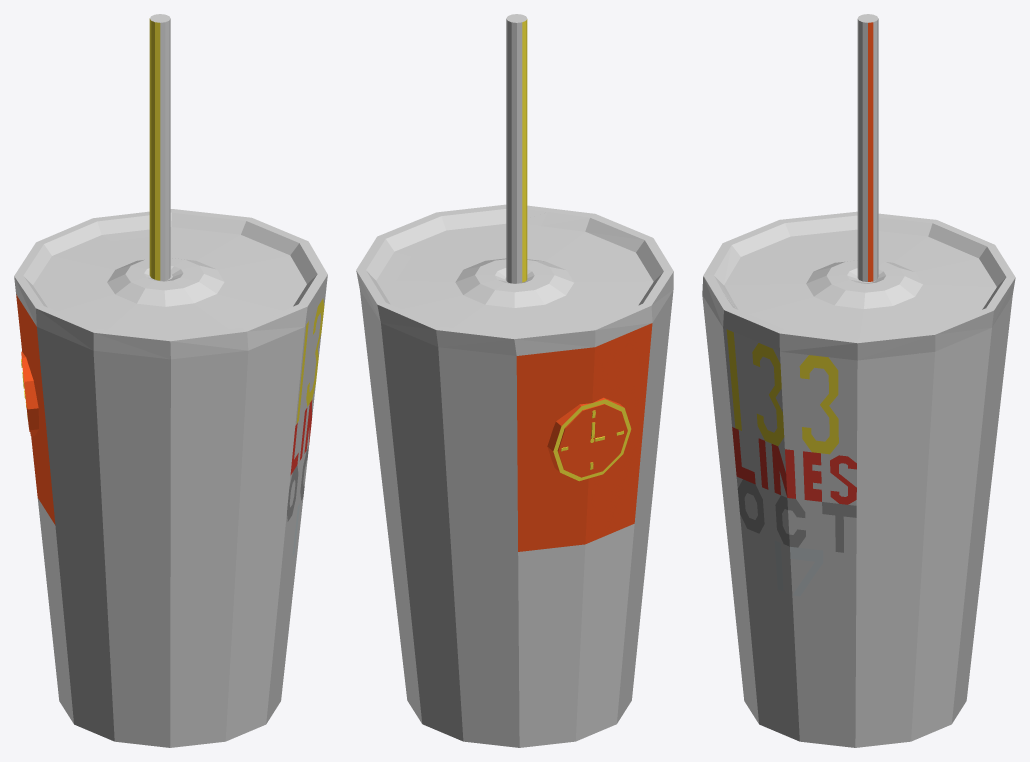
Rendered from time-hotel-4-17-by-s--paul-michael-4jughmgKFC-.glb.
3 views of the same model, side by side, from view 1: azimuth 30°, elevation 25°; view 2: azimuth 150°, elevation 25°; view 3: azimuth 270°, elevation 25° (orthographic).
Visible parts, largest first — view 1: group293659253, group134255155, group1541945906, group1482501347; view 2: group293659253, group134255155, group1541945906, group1482501347; view 3: group293659253, group134255155, group1541945906.
Part boxes in pixels (x1,y1,x2,y2): group293659253: (16,294,325,747); group134255155: (14,209,327,359); group1541945906: (149,14,170,280); group1482501347: (21,351,38,436); group293659253: (360,290,673,747); group134255155: (356,204,673,355); group1541945906: (506,14,527,283); group1482501347: (547,397,631,481); group293659253: (702,295,1012,747); group134255155: (702,211,1015,360); group1541945906: (857,14,878,281).
Size of the model in its own units: 1.3 by 3.1 by 1.29.
